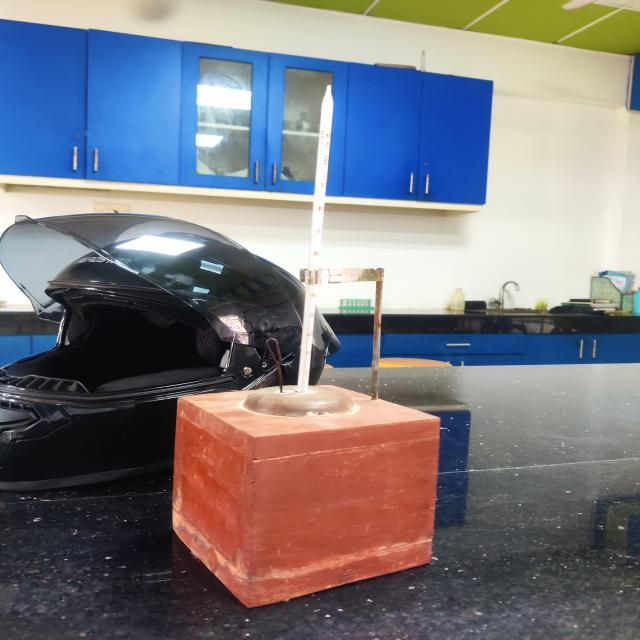Calorimeter: (139, 53, 497, 635)
